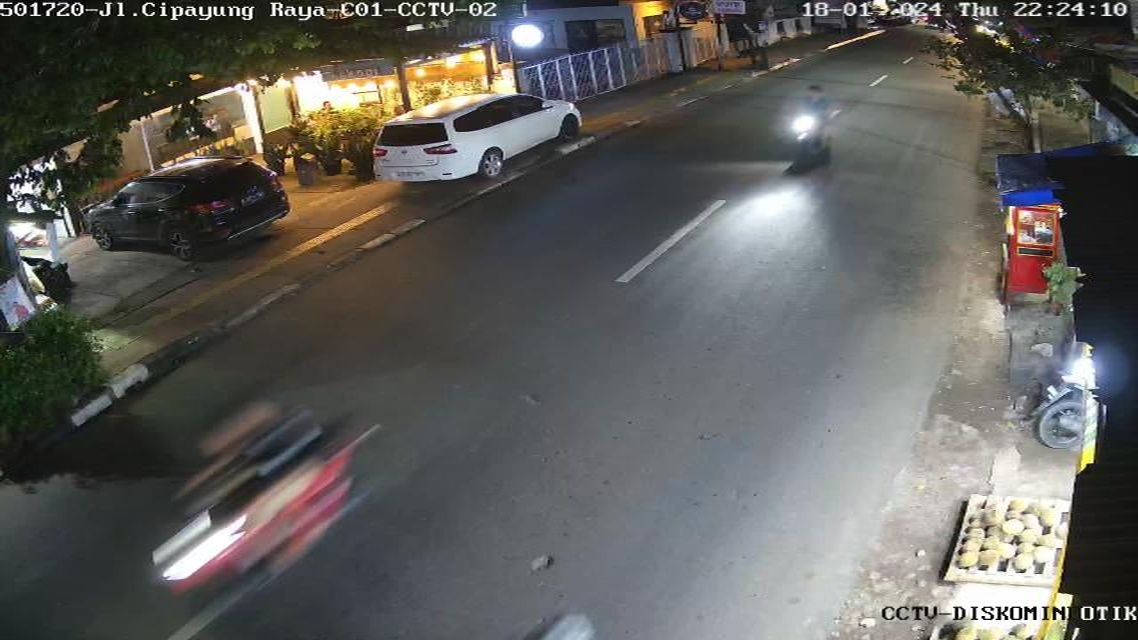Gerobak: (985, 178, 1072, 301)
